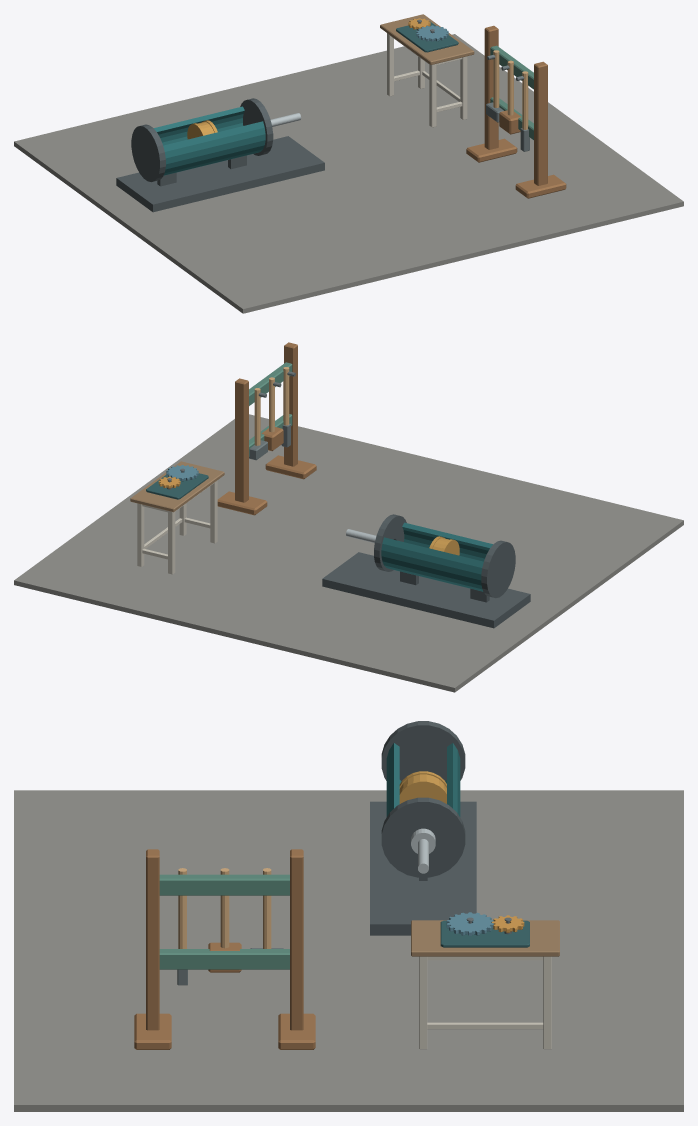
3 renders of one model, top to bottom at view 1: azimuth 30°, elevation 25°; view 2: azimuth 150°, elevation 25°; view 3: azimuth 270°, elevation 25°, orthographic. The views are drawn at different scales.
Parts seen in each view (by area): view 1: SCENE_ONLY__SupportFloor, tool_staging_rack__village-tool-rack-01, piston_display__CompleteGroundBase, piston_display__ContinuousTopCutawayCylinder, piston_display__WholeClosedRearEndCap, sample_worktable__Complete work surface, piston_display__TrueBoredFrontEndCap, gear_sample__Base_ChamferedGrounded, sample_worktable__Worktable leg.002, sample_worktable__Worktable leg.003; view 2: SCENE_ONLY__SupportFloor, tool_staging_rack__village-tool-rack-01, piston_display__CompleteGroundBase, piston_display__ContinuousTopCutawayCylinder, piston_display__WholeClosedRearEndCap, sample_worktable__Complete work surface, piston_display__TrueBoredFrontEndCap, gear_sample__Base_ChamferedGrounded; view 3: SCENE_ONLY__SupportFloor, tool_staging_rack__village-tool-rack-01, piston_display__CompleteGroundBase, piston_display__TrueBoredFrontEndCap, piston_display__WholeClosedRearEndCap, sample_worktable__Complete work surface, piston_display__ContinuousTopCutawayCylinder, gear_sample__Base_ChamferedGrounded, piston_display__IndependentSteppedPiston, sample_worktable__Rear lower brace, gear_sample__Gear18_ContinuousTeethAndBore, sample_worktable__Worktable leg.001 (+2 smaller).
Boxes of the visible parts, <box> form: SCENE_ONLY__SupportFloor: <box>14,34,683,313</box>; tool_staging_rack__village-tool-rack-01: <box>466,25,566,198</box>; piston_display__CompleteGroundBase: <box>116,136,324,212</box>; piston_display__ContinuousTopCutawayCylinder: <box>153,106,265,175</box>; piston_display__WholeClosedRearEndCap: <box>131,124,165,182</box>; sample_worktable__Complete work surface: <box>380,14,474,64</box>; piston_display__TrueBoredFrontEndCap: <box>240,98,273,155</box>; gear_sample__Base_ChamferedGrounded: <box>396,21,458,52</box>; sample_worktable__Worktable leg.002: <box>429,64,436,127</box>; sample_worktable__Worktable leg.003: <box>460,56,467,119</box>; SCENE_ONLY__SupportFloor: <box>14,414,683,692</box>; tool_staging_rack__village-tool-rack-01: <box>217,342,316,515</box>; piston_display__CompleteGroundBase: <box>322,552,530,628</box>; piston_display__ContinuousTopCutawayCylinder: <box>381,522,492,591</box>; piston_display__WholeClosedRearEndCap: <box>481,540,515,598</box>; sample_worktable__Complete work surface: <box>130,461,224,512</box>; piston_display__TrueBoredFrontEndCap: <box>374,514,406,571</box>; gear_sample__Base_ChamferedGrounded: <box>146,473,208,499</box>; SCENE_ONLY__SupportFloor: <box>14,790,683,1111</box>; tool_staging_rack__village-tool-rack-01: <box>134,849,315,1049</box>; piston_display__CompleteGroundBase: <box>370,801,476,935</box>; piston_display__TrueBoredFrontEndCap: <box>381,797,465,877</box>; piston_display__WholeClosedRearEndCap: <box>381,721,465,781</box>; sample_worktable__Complete work surface: <box>411,920,559,956</box>; piston_display__ContinuousTopCutawayCylinder: <box>386,743,460,816</box>; gear_sample__Base_ChamferedGrounded: <box>440,920,529,947</box>; piston_display__IndependentSteppedPiston: <box>399,771,446,803</box>; sample_worktable__Rear lower brace: <box>427,1022,543,1029</box>; gear_sample__Gear18_ContinuousTeethAndBore: <box>446,912,493,935</box>; sample_worktable__Worktable leg.001: <box>543,956,551,1049</box>.
Size of the model in its own units: 6 by 1.7 by 5.4.
